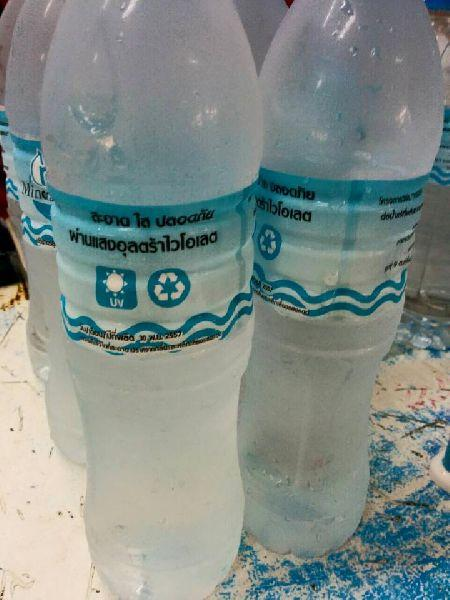bottle: (36, 0, 269, 600), (223, 0, 450, 571), (3, 0, 209, 468), (0, 0, 169, 389), (194, 0, 319, 448)
